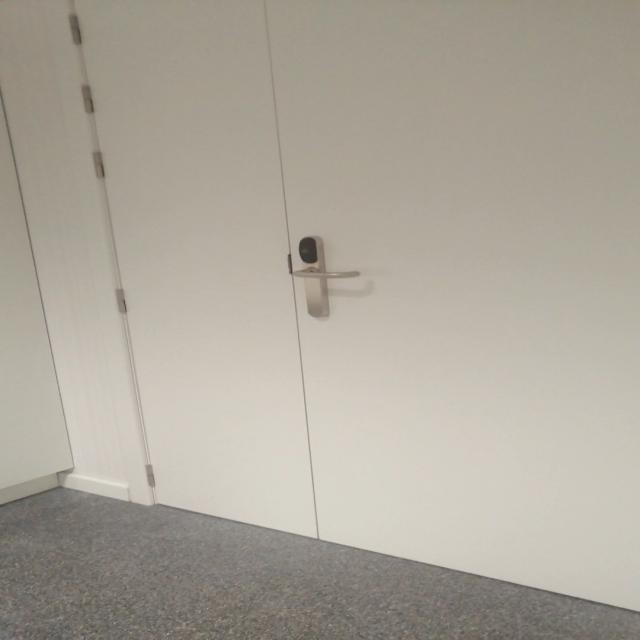door_handle: (283, 265, 365, 280)
